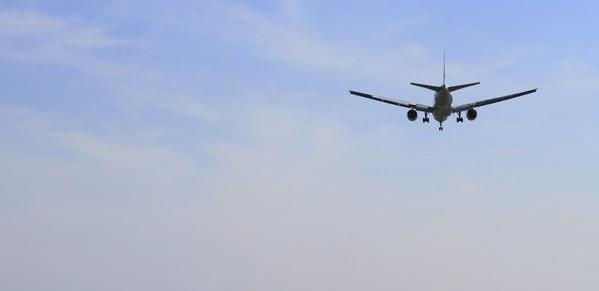aircraft: (349, 48, 540, 133)
